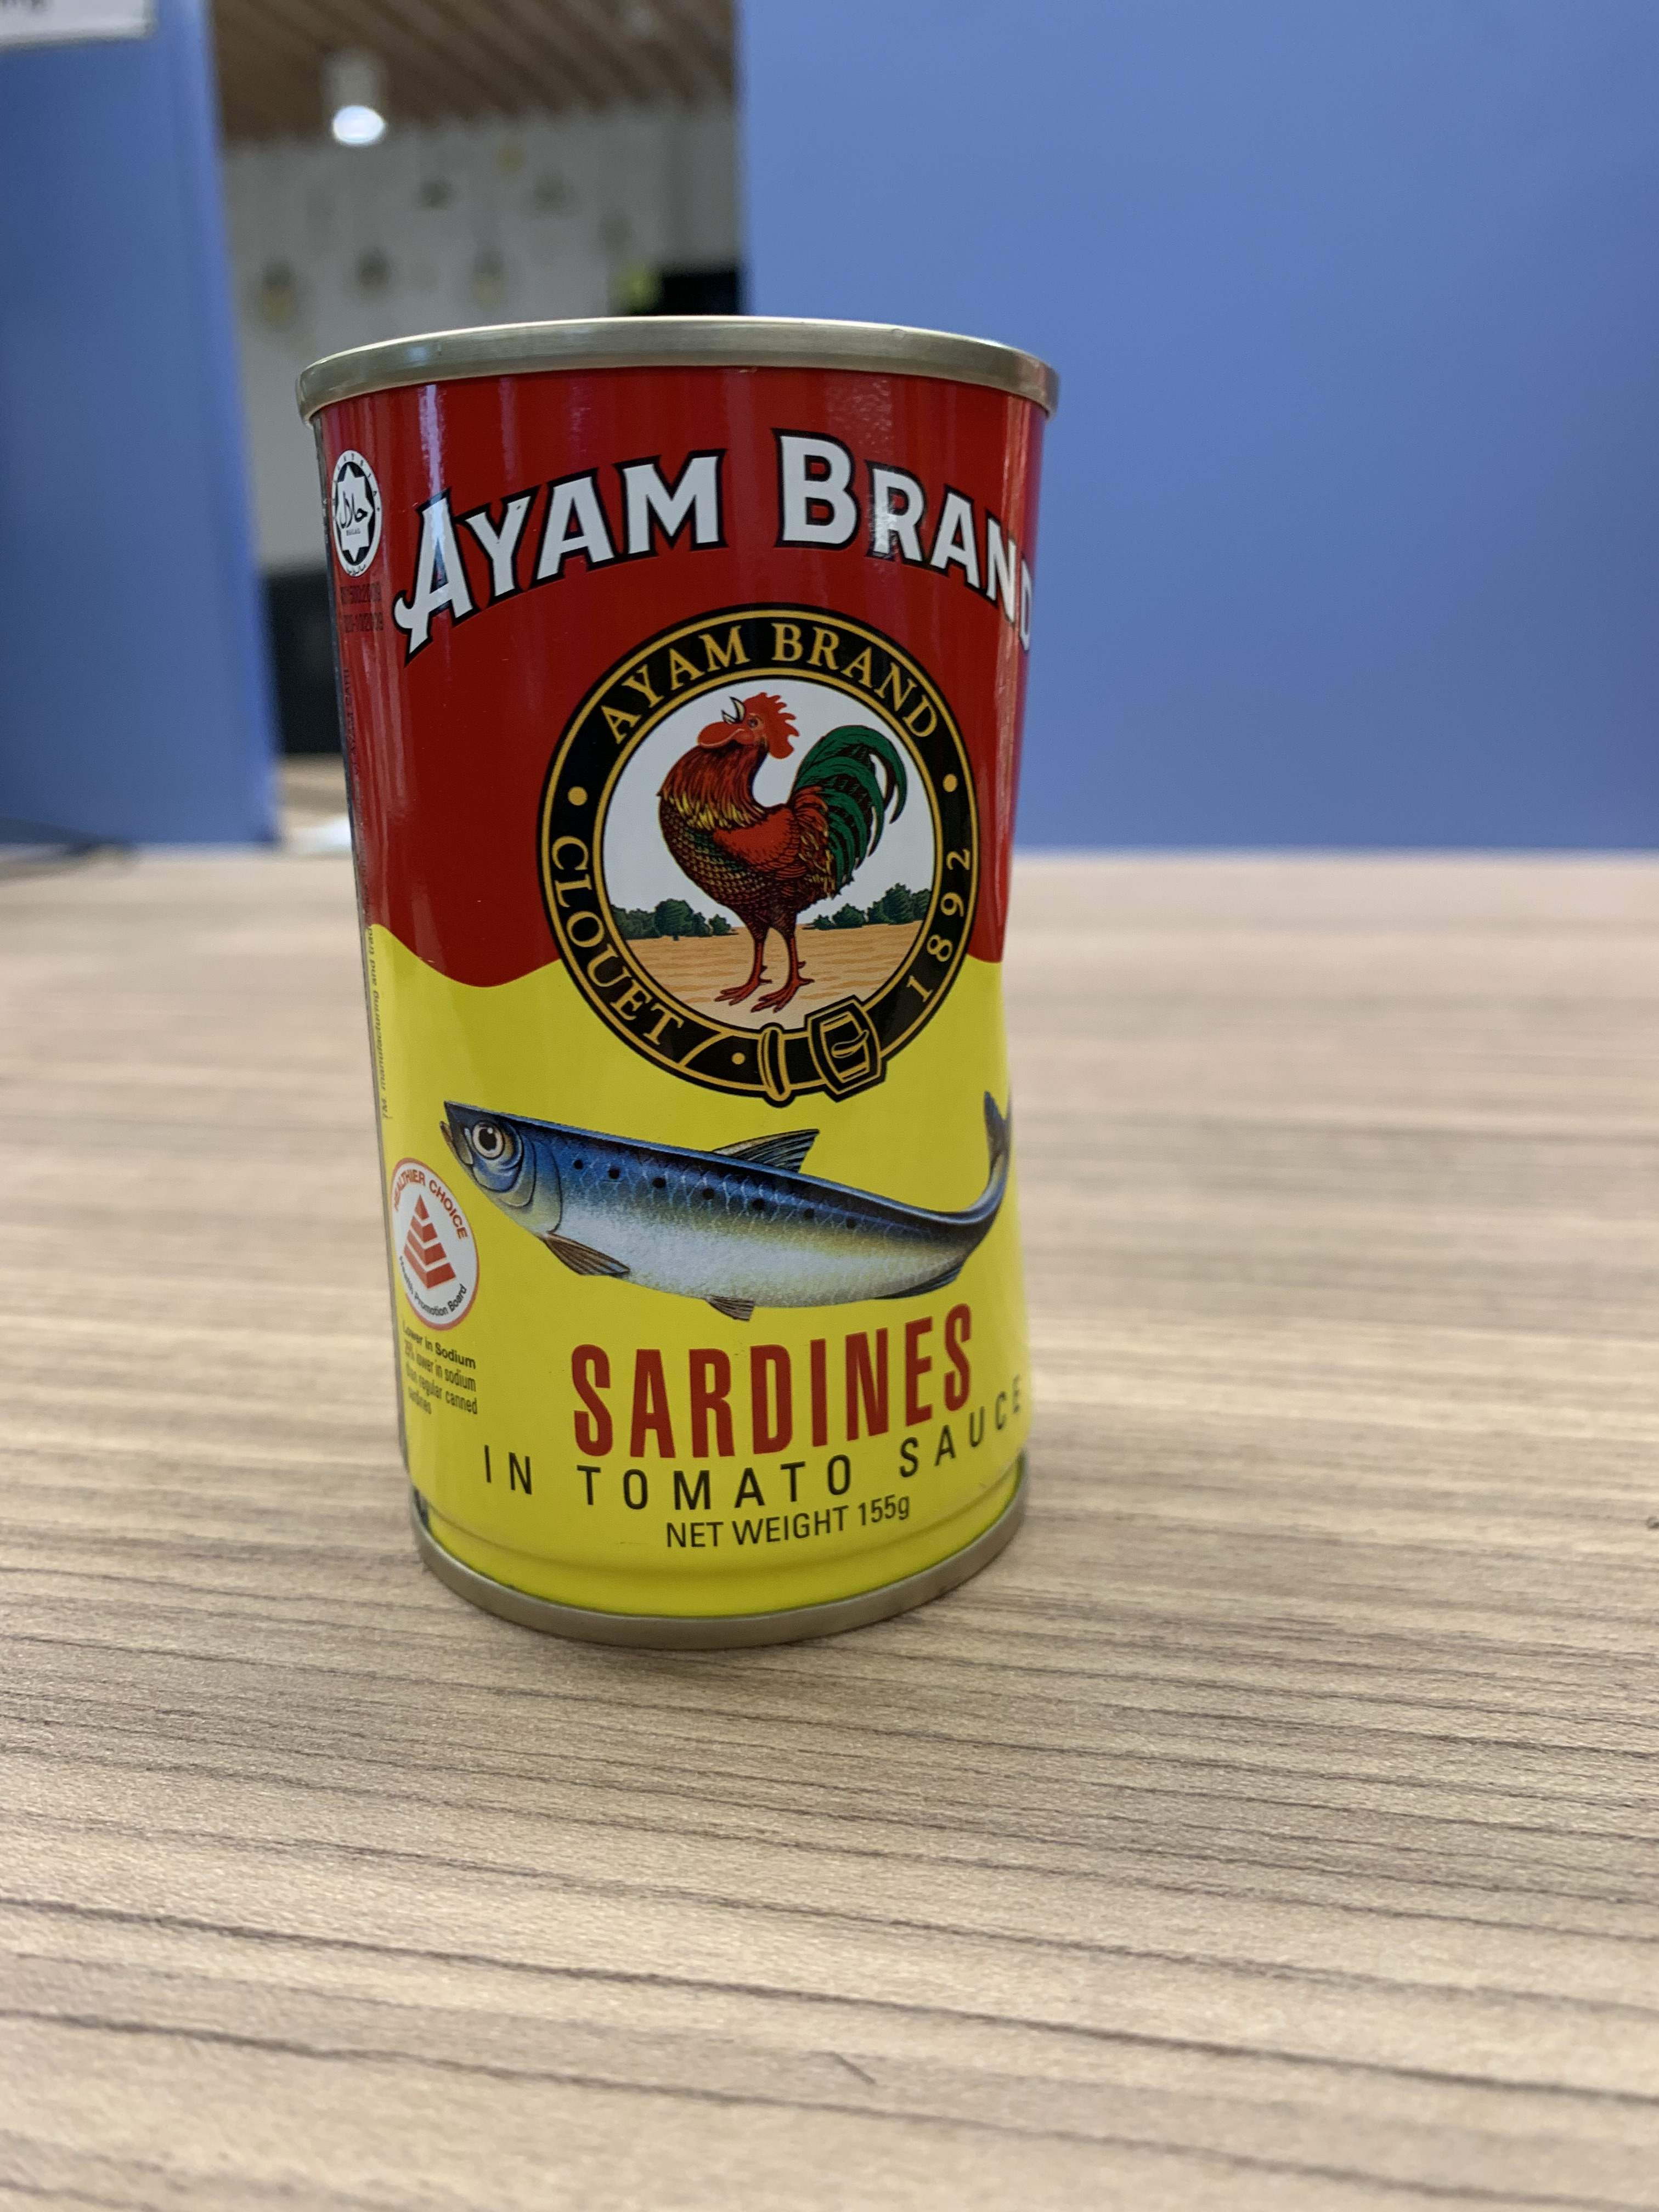sardines_100g-199g: (350, 420, 1009, 1576)
